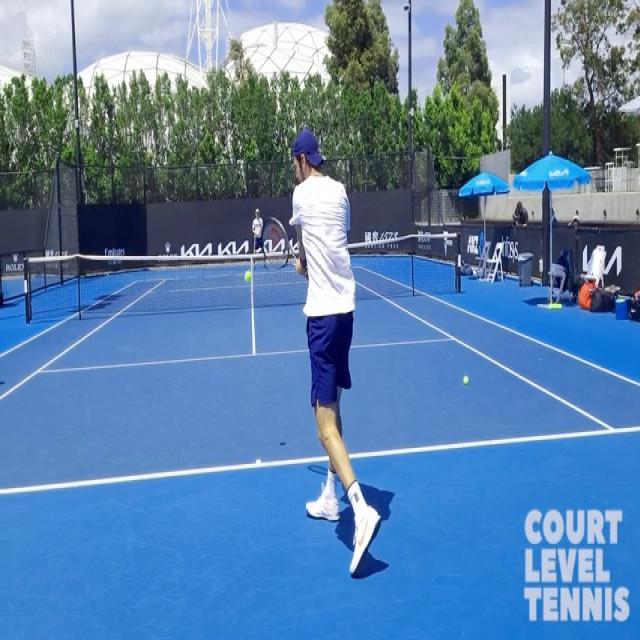backhand-stroke: (262, 131, 382, 579)
